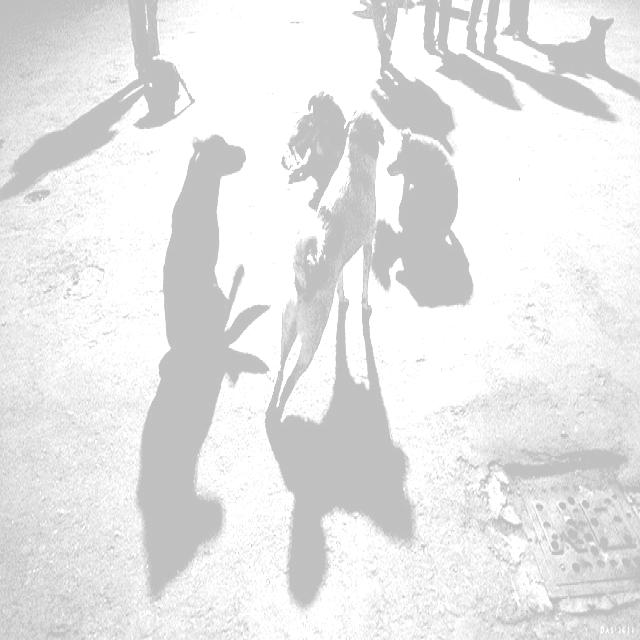Dog: (272, 75, 465, 409), (150, 91, 281, 418), (515, 14, 619, 103), (280, 83, 347, 178)
